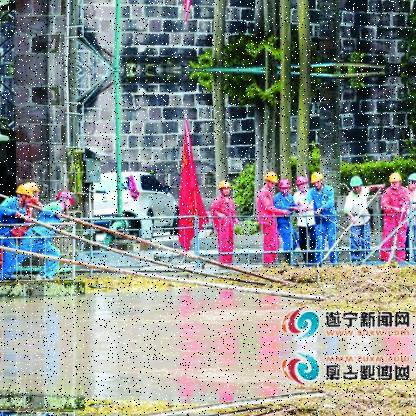Helmet: (50, 188, 77, 218), (12, 180, 34, 208), (212, 174, 235, 198), (258, 169, 278, 193), (346, 173, 365, 196), (308, 169, 326, 192), (383, 170, 403, 190), (291, 174, 311, 193), (25, 179, 42, 200), (277, 178, 294, 198), (404, 169, 415, 193)
